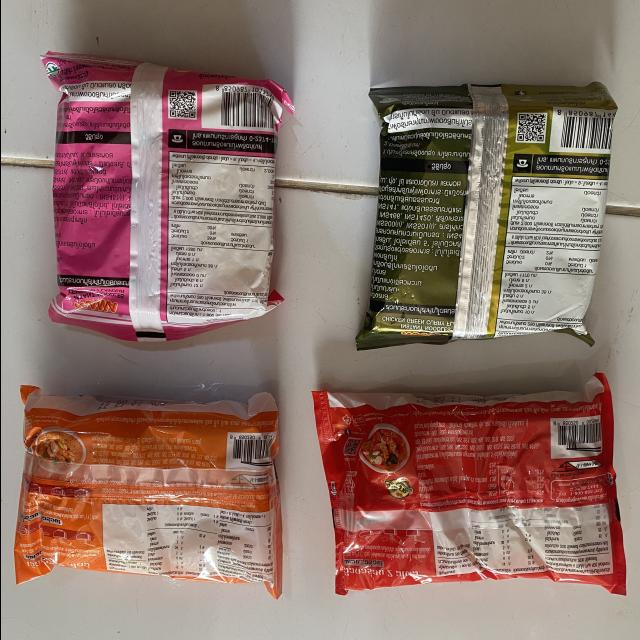plastik: (41, 52, 293, 341), (356, 83, 616, 350), (312, 374, 624, 595), (14, 386, 281, 597)
